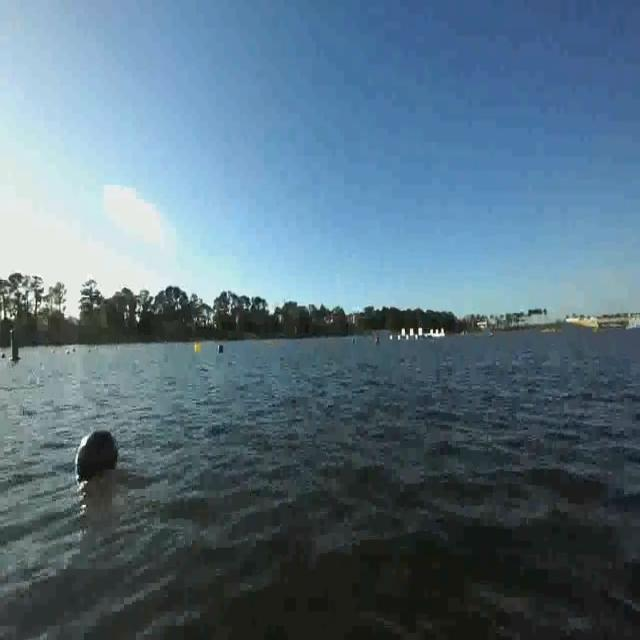black-buoy: (75, 424, 118, 482), (217, 344, 224, 354)
green-column-buoy: (9, 328, 19, 363)
yellow-buoy: (193, 343, 200, 355)
